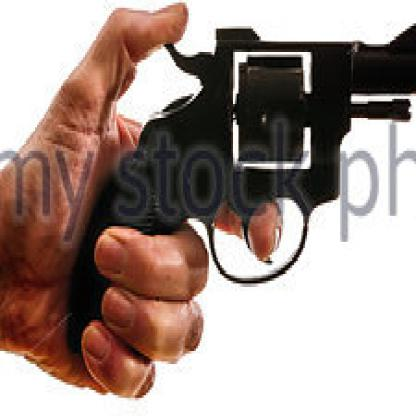gun: (54, 0, 414, 411)
